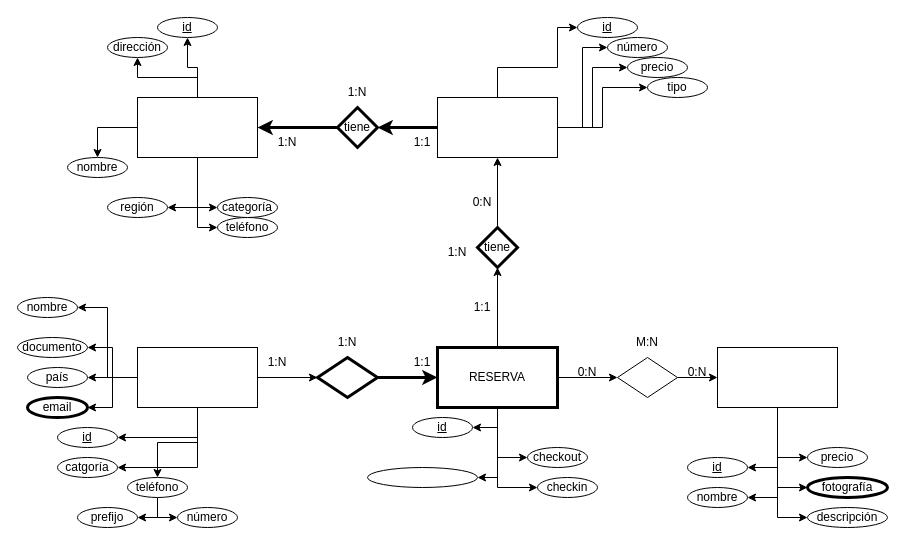
Some shapes in this 906 by 545 pixel diagram are drawn without their labels. Here are the shapes that lost their labels. From the top down, the box of each, then its label:
(136, 96, 258, 158): HOTEL
(436, 96, 558, 158): HABITACIÓN
(136, 346, 258, 408): CLIENTE
(316, 356, 378, 398): realiza
(616, 356, 678, 398): incluye
(716, 346, 838, 408): SERVICIO
(366, 466, 478, 488): método de pago
